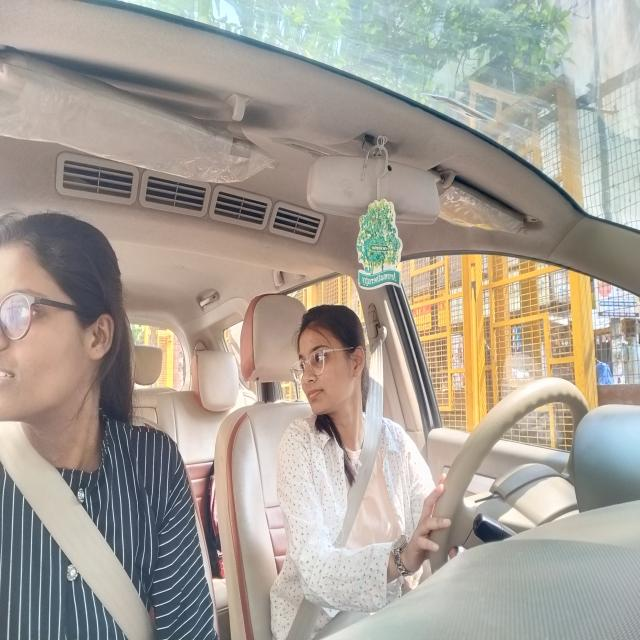LeftRight: (292, 299, 369, 427)
person: (0, 208, 127, 426)
